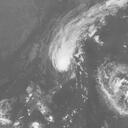cyclone: (48, 40, 82, 71)
